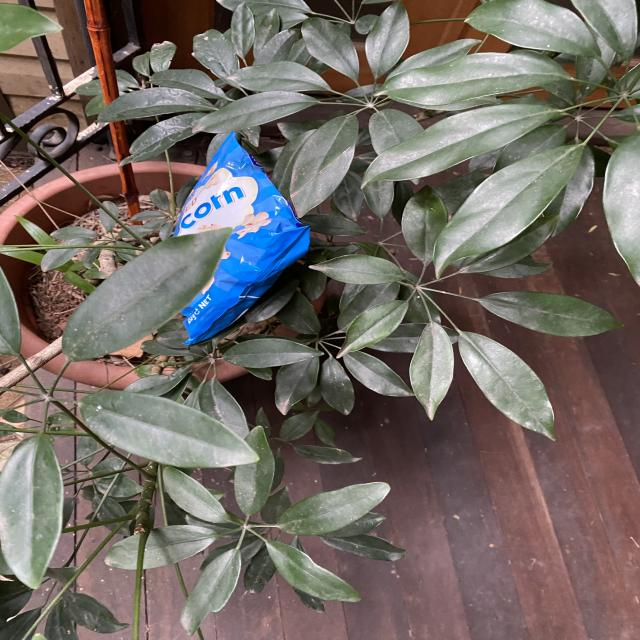container: (121, 125, 328, 354)
